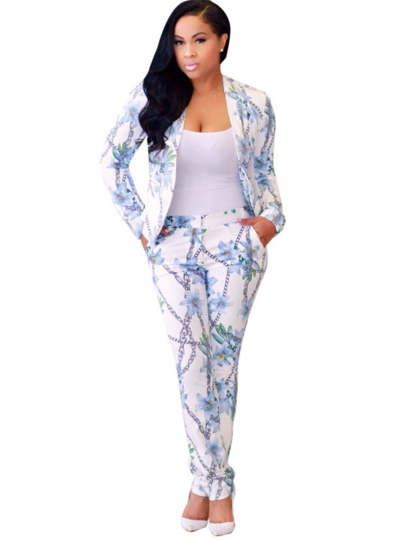feet: (169, 465, 240, 535)
